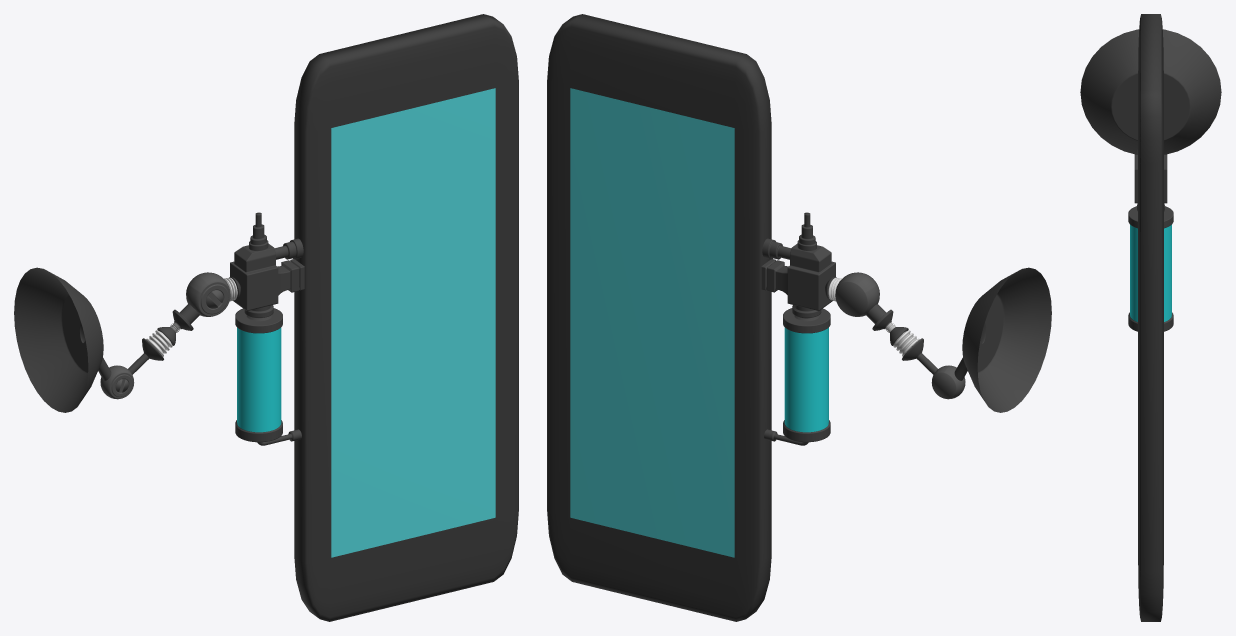
File: CartelloV2.fbx
The picture shows the model from 3 angles, left to right: view 1: azimuth 30°, elevation 25°; view 2: azimuth 150°, elevation 25°; view 3: azimuth 270°, elevation 25°; orthographic projection. The views are drawn at different scales.
Parts seen in each view (by area): view 1: CartelloV2; view 2: CartelloV2; view 3: CartelloV2.
Boxes of the visible parts, box(x1,y1,x2,y2) form: CartelloV2: box(14, 14, 518, 621); CartelloV2: box(547, 14, 1051, 621); CartelloV2: box(1080, 14, 1221, 621).
Bounding box in the file's own units: 250 × 289 × 69.55.
